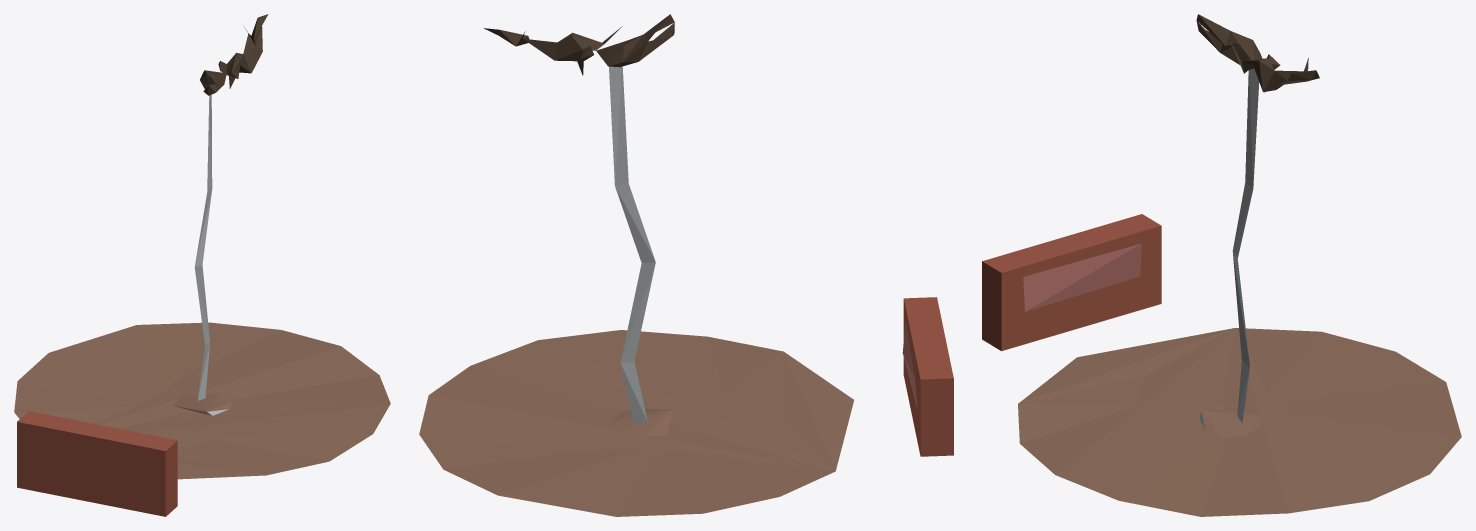
The model's file is spanjemonument.lod2.glb.
3 views of the same model, side by side, from view 1: azimuth 30°, elevation 25°; view 2: azimuth 150°, elevation 25°; view 3: azimuth 270°, elevation 25° (orthographic). The views are drawn at different scales.
Visible parts, largest first — view 1: lod2; view 2: lod2; view 3: lod2.
Boxes of the visible parts, x1,y1,x2,y2 form: lod2: (14, 14, 390, 516); lod2: (419, 14, 953, 516); lod2: (982, 14, 1461, 516).
Size of the model in its own units: 7.08 by 5.97 by 6.39.
